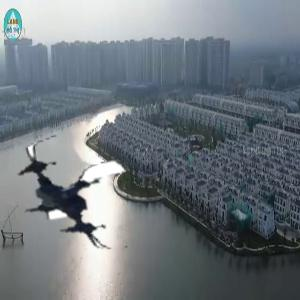drone: (14, 126, 151, 263)
